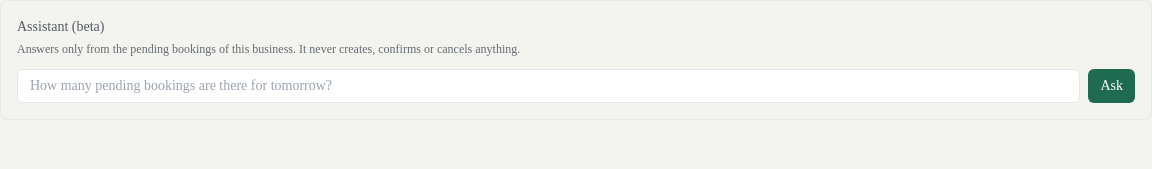
Test case: AiAssistBox › shows the API message for any other 503: "AI assist did not answer in time."
The width and height of the screenshot is (1152, 169).
In the field named "Question for the assistant": (549, 86) [17,69,1080,103], type "How many are pending tomorrow?"
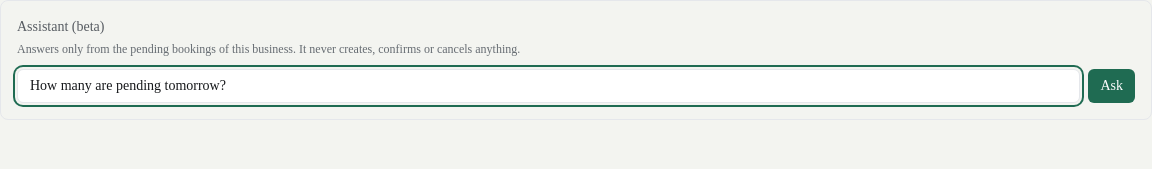
Click the button "Ask": (1112, 86) [1088,69,1135,103]
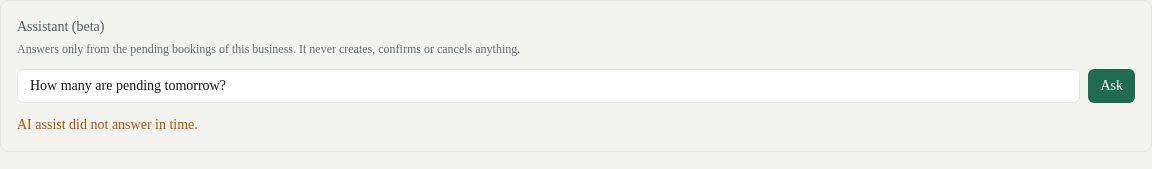
Expected: the message does not show "not configured", [17,117,198,132]
Now the message reads "AI assist did not answer in time.", box [17,117,198,132]
